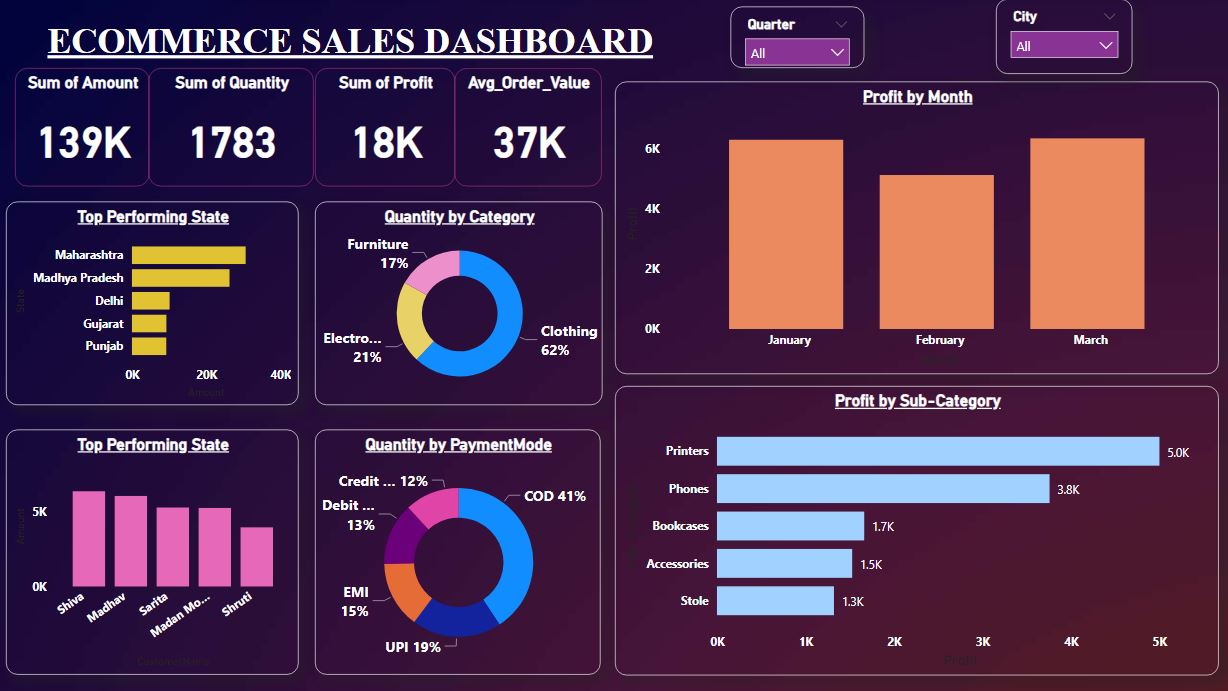

The dashboard page shown, as its layout file describes it:
{"tool":"powerbi","page":{"name":"Page 1","canvas":[1280,720],"ordinal":0},"visuals":[{"type":"textbox","box":[15.6,17.2,698.1,54.7],"z":0},{"type":"columnChart","fields":{"Category":["Orders.Order Date.Variation.Date Hierarchy.Month"],"Y":["Sum(Details.Profit)"]},"box":[640,85.2,628.6,304.9],"z":1000},{"type":"barChart","fields":{"Category":["Details.Sub-Category"],"Y":["Sum(Details.Profit)"]},"box":[640,403.3,628.6,301.1],"z":2000},{"type":"donutChart","fields":{"Category":["Details.Category"],"Y":["Sum(Details.Quantity)"]},"box":[327.6,210.2,299.2,212.1],"z":3000},{"type":"donutChart","fields":{"Y":["Sum(Details.Quantity)"],"Category":["Details.PaymentMode"]},"box":[327.6,448.8,297.3,255.6],"z":4000},{"type":"card","title":"Sum of Amount","fields":{"Values":["Sum(Details.Amount)"]},"box":[15.1,72,140.1,123.1],"z":5000},{"type":"card","title":"Sum of Quantity","fields":{"Values":["Sum(Details.Quantity)"]},"box":[155.3,72,172.3,123.1],"z":6000},{"type":"card","title":"Sum of Profit","fields":{"Values":["Sum(Details.Profit)"]},"box":[327.6,72,145.8,123.1],"z":7000},{"type":"card","title":"Avg_Order_Value","fields":{"Values":["Sum(Details.m_avg_order_value)"]},"box":[473.4,72,153.4,123.1],"z":8000},{"type":"barChart","title":"Top Performing State","fields":{"Category":["Orders.State"],"Y":["Sum(Details.Amount)"]},"box":[5.7,210.2,304.9,212.1],"z":9000},{"type":"columnChart","title":"Top Performing Customer","fields":{"Y":["Sum(Details.Amount)"],"Category":["Orders.CustomerName"]},"box":[5.7,448.8,304.9,255.6],"z":10000},{"type":"slicer","fields":{"Values":["Orders.City"]},"box":[1037,0,142.1,78.1],"z":11000},{"type":"slicer","fields":{"Values":["Orders.Order Date.Variation.Date Hierarchy.Quarter"]},"box":[760.6,7.8,139,64],"z":12000}]}

Visuals, with their boxes in screenshot pixels (x1, y1, x2, y2), scaled from the page's 1280x720 canvas onto the 1228x691 screenshot:
textbox: <bbox>15, 17, 685, 69</bbox>
columnChart - Orders.Order Date.Variation.Date Hierarchy.Month x Sum(Details.Profit): <bbox>614, 82, 1217, 374</bbox>
barChart - Details.Sub-Category x Sum(Details.Profit): <bbox>614, 387, 1217, 676</bbox>
donutChart - Details.Category x Sum(Details.Quantity): <bbox>314, 202, 601, 405</bbox>
donutChart - Sum(Details.Quantity) x Details.PaymentMode: <bbox>314, 431, 600, 676</bbox>
"Sum of Amount" card: <bbox>14, 69, 149, 187</bbox>
"Sum of Quantity" card: <bbox>149, 69, 314, 187</bbox>
"Sum of Profit" card: <bbox>314, 69, 454, 187</bbox>
"Avg_Order_Value" card: <bbox>454, 69, 601, 187</bbox>
"Top Performing State" barChart: <bbox>5, 202, 298, 405</bbox>
"Top Performing Customer" columnChart: <bbox>5, 431, 298, 676</bbox>
slicer - Orders.City: <bbox>995, 0, 1131, 75</bbox>
slicer - Orders.Order Date.Variation.Date Hierarchy.Quarter: <bbox>730, 7, 863, 69</bbox>
